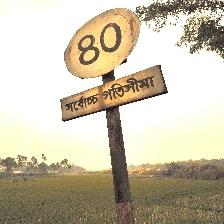Speed-limit: (61, 6, 167, 122)
